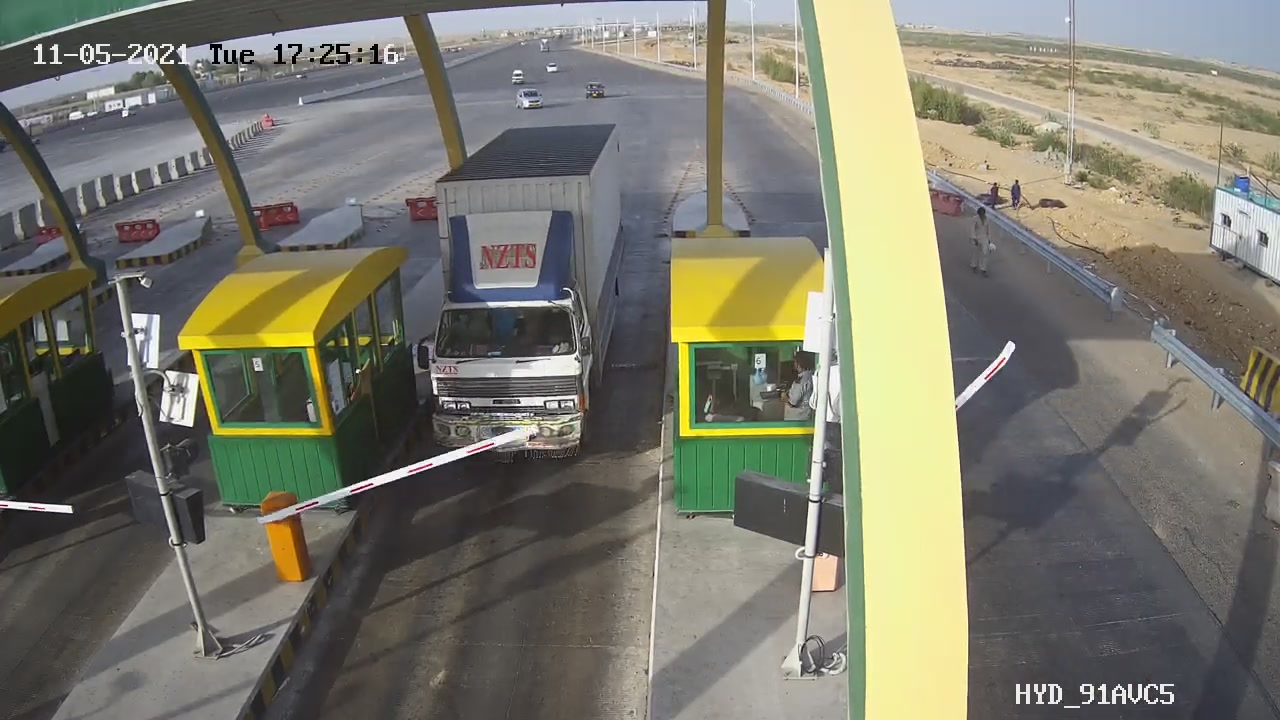F5: (399, 112, 655, 481)
